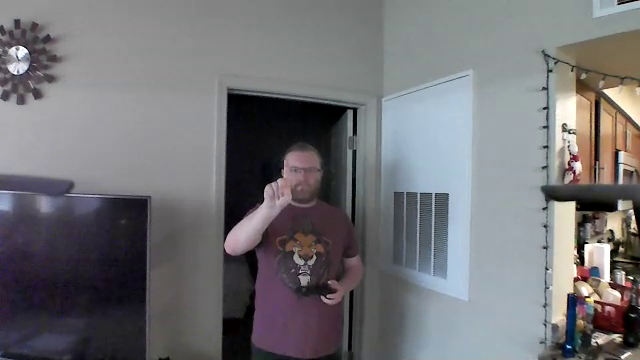up: (260, 156, 294, 210)
